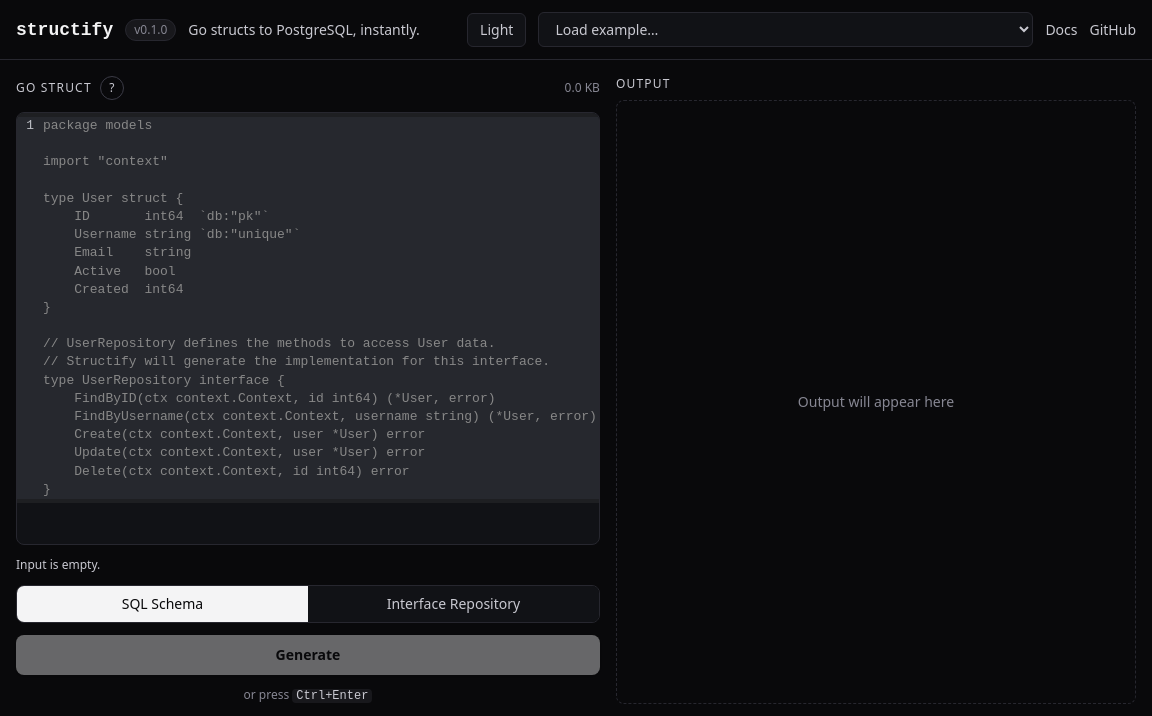
Test: StructifyApp › shows package name input when mode is repo
Click the tab "Interface Repository": point(454, 604) x1=308 y1=586 x2=599 y2=622
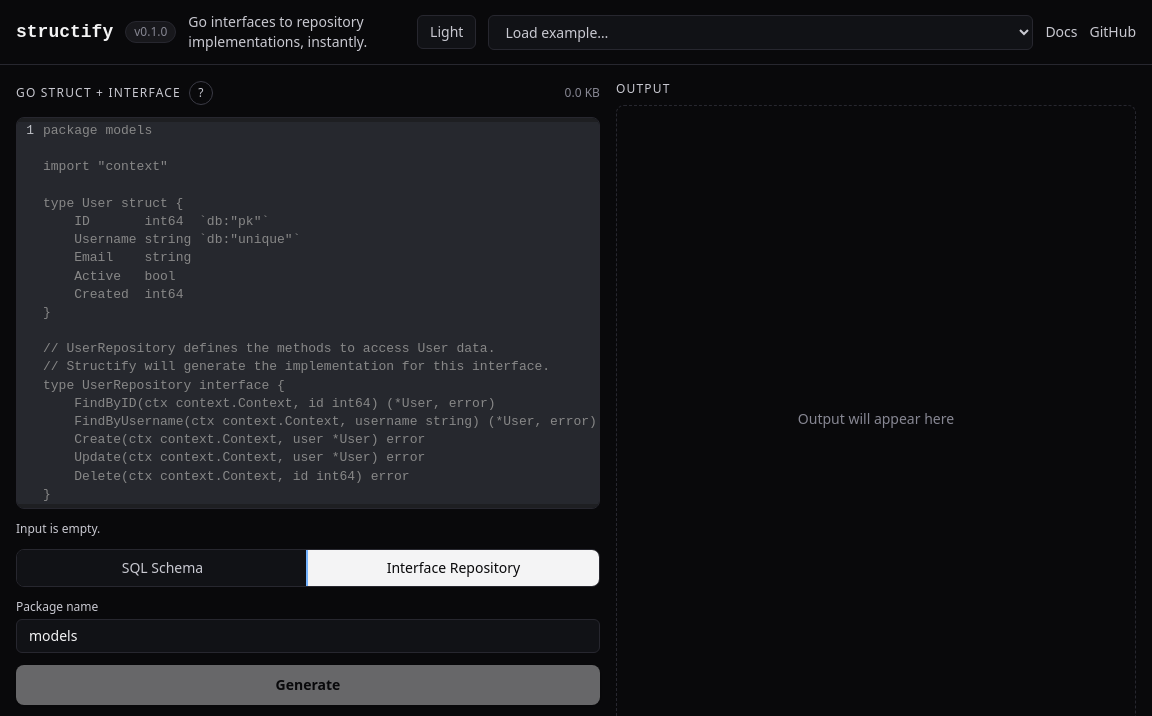
Expected: the field with placeholder "models" is shown, x1=16 y1=619 x2=600 y2=653
